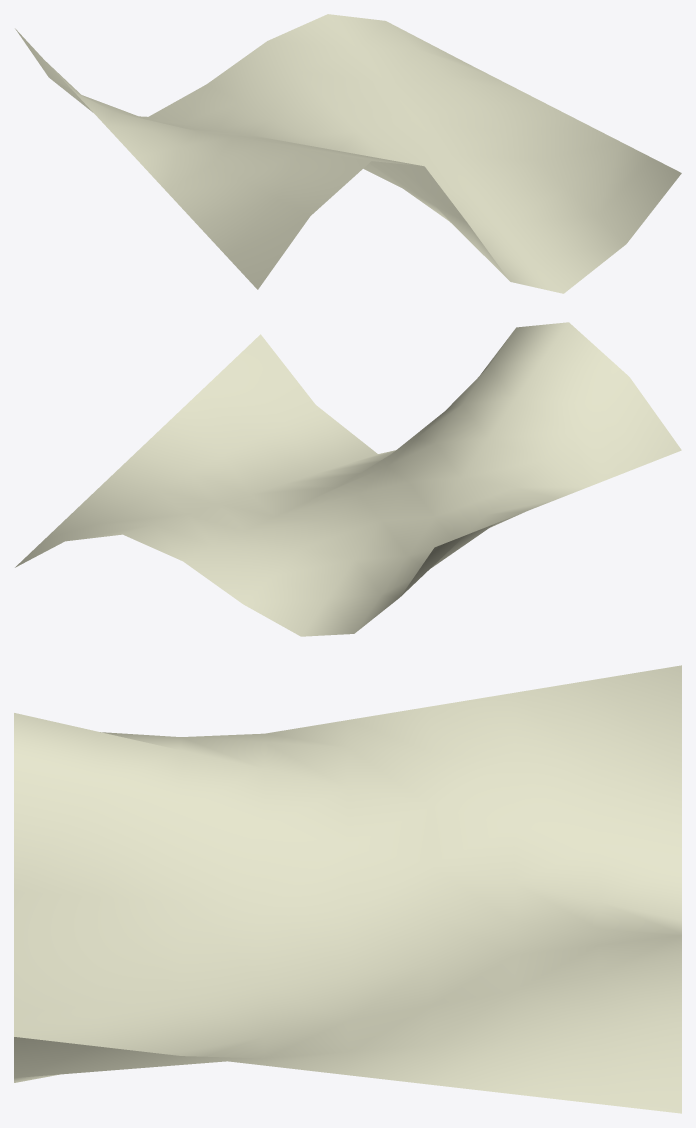
The picture shows the model from 3 angles, top to bottom: view 1: azimuth 30°, elevation 25°; view 2: azimuth 150°, elevation 25°; view 3: azimuth 270°, elevation 25°; orthographic projection. The views are drawn at different scales.
Parts seen in each view (by area): view 1: SketchUp; view 2: SketchUp; view 3: SketchUp.
Boxes of the visible parts, left/top/right/bottom form: SketchUp: left=15, top=14, right=681, bottom=293; SketchUp: left=15, top=322, right=681, bottom=636; SketchUp: left=14, top=665, right=681, bottom=1113.
Bounding box in the file's own units: 5.7 × 5.71 × 2.3.
